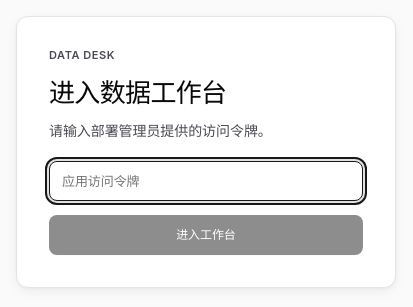
Scenario: AccessGate 访问门禁 › 验证期间按钮显示「验证中」并禁用，防止重复提交
This screenshot has width=413, height=307.
Later steps or results of the test are not shown.
In the password field with placeholder "应用访问令牌": (206, 181) [49, 161, 363, 201], type "token"
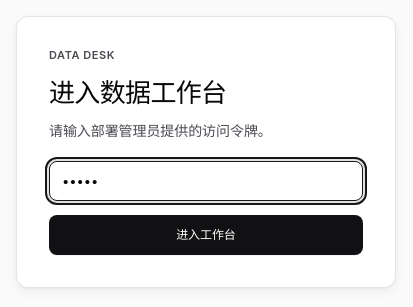
Submit the form "进入工作台"
Expected: the button "进入工作台" is enabled, [49, 215, 363, 255]
